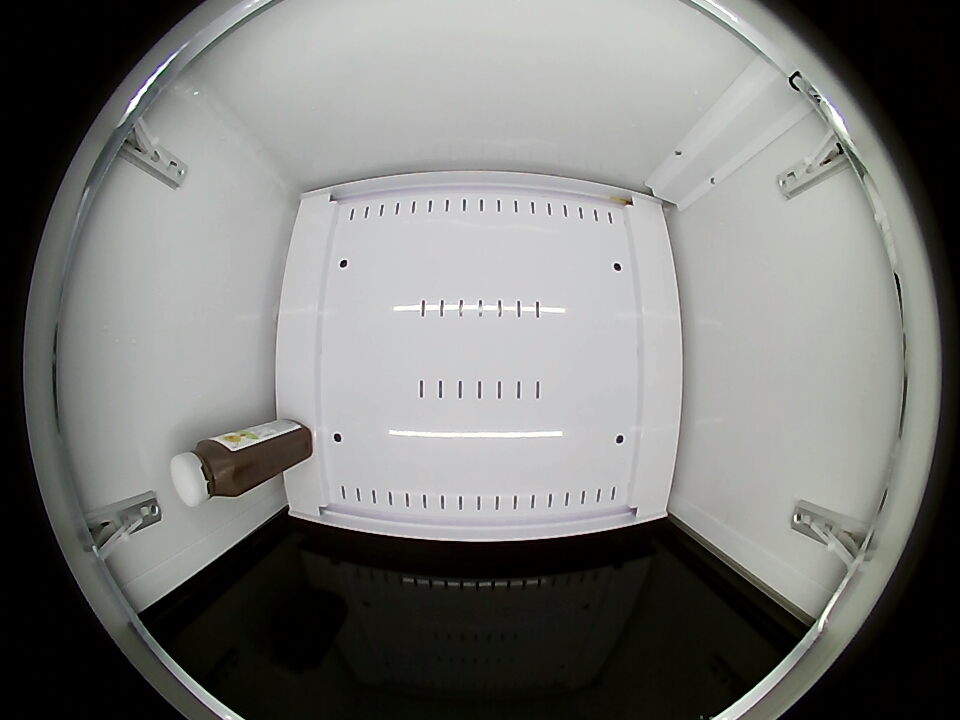youyanggudong: (170, 437, 244, 506)
